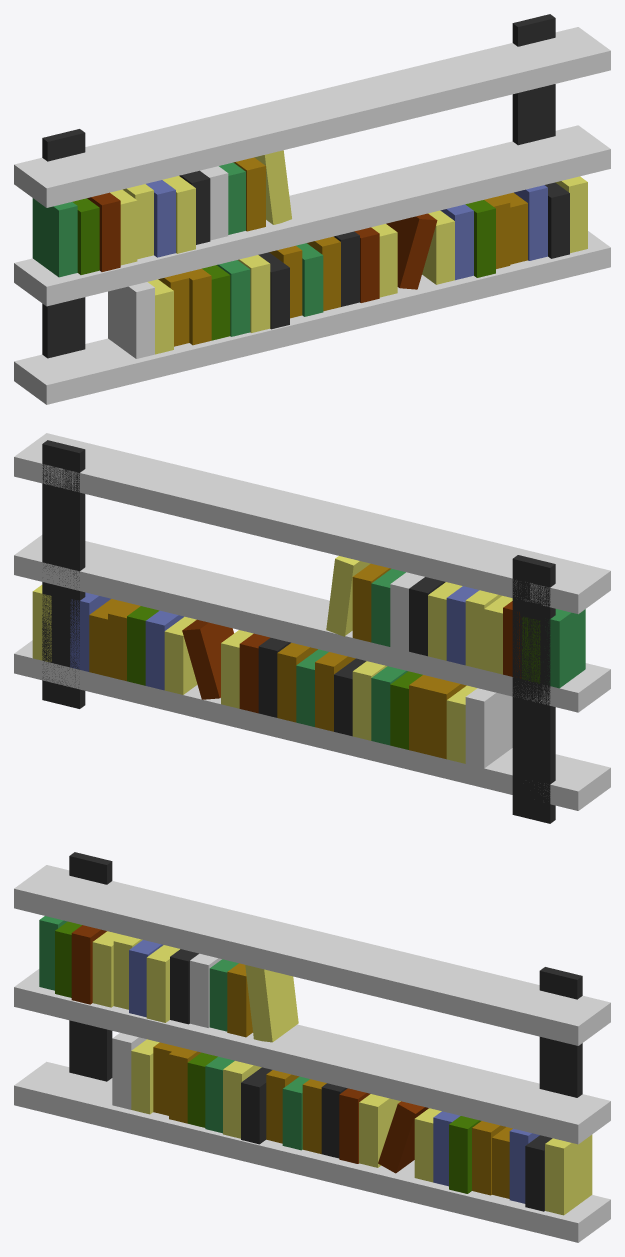
The model's file is Bookshelf.fbx.
The picture shows the model from 3 angles, top to bottom: view 1: azimuth 30°, elevation 25°; view 2: azimuth 150°, elevation 25°; view 3: azimuth 330°, elevation 25°; orthographic projection.
Visible parts, largest first — view 1: Cube; view 2: Cube; view 3: Cube.
Boxes of the visible parts, x1,y1,x2,y2 form: Cube: (14, 14, 610, 404); Cube: (14, 433, 610, 823); Cube: (14, 852, 610, 1242).
Size of the model in its own units: 300 by 130 by 30.
